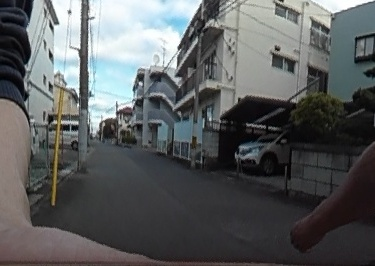person: (306, 0, 375, 266)
